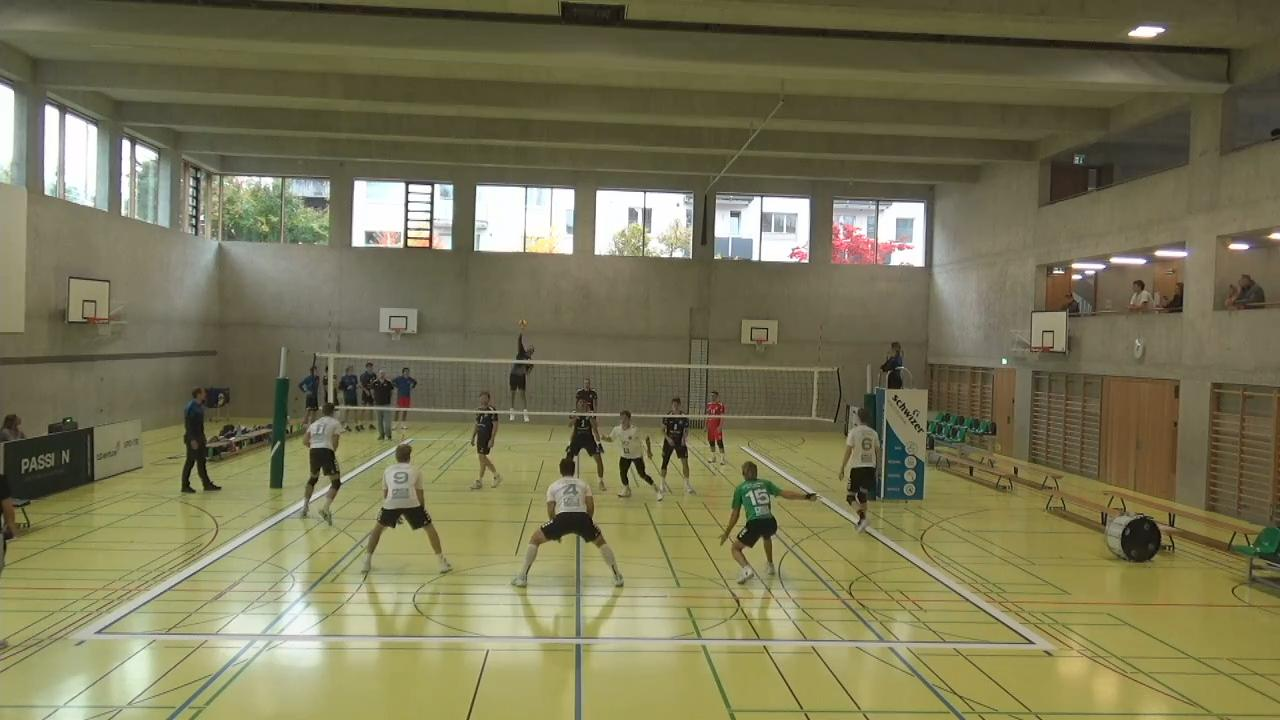battuta: (504, 320, 536, 427)
